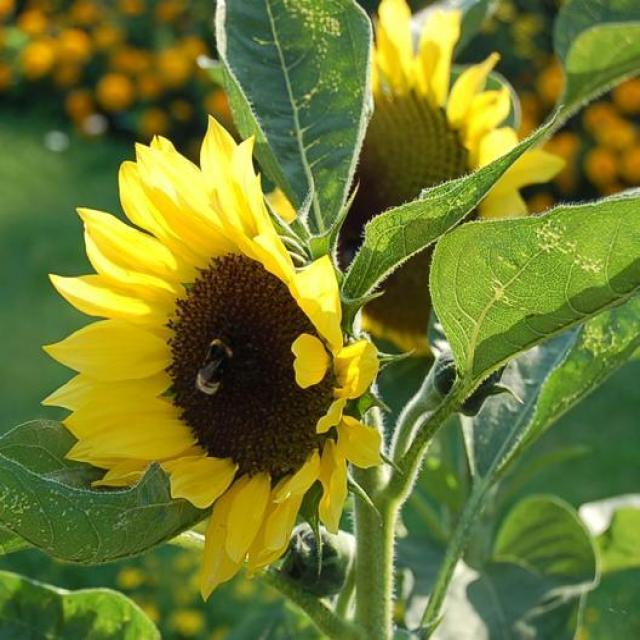sunflower: (35, 118, 402, 598)
